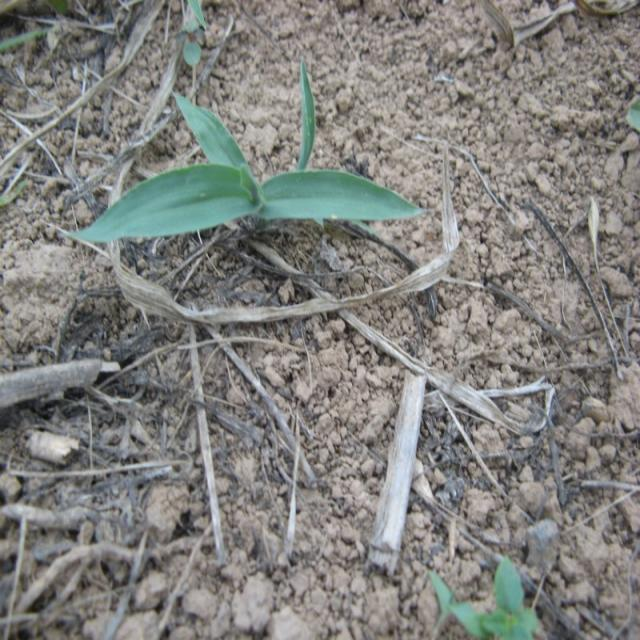bg: (74, 54, 424, 245)
